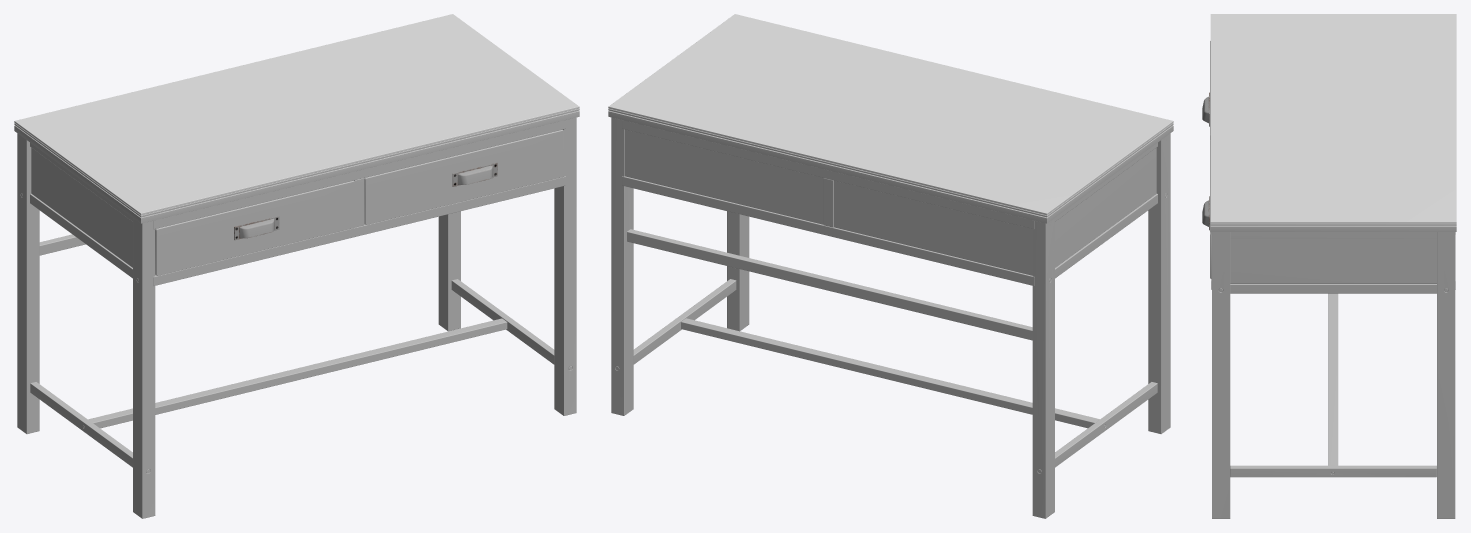
Rendered from WoodWorkingDesk 1.fbx.
3 views of the same model, side by side, from view 1: azimuth 30°, elevation 25°; view 2: azimuth 150°, elevation 25°; view 3: azimuth 270°, elevation 25° (orthographic). The views are drawn at different scales.
Parts seen in each view (by area): view 1: Desk_Baked, Glass_Baked, Handle_Baked; view 2: Desk_Baked, Glass_Baked; view 3: Glass_Baked, Desk_Baked, Handle_Baked.
Part boxes in pixels (x1,y1,x2,y2): Desk_Baked: [14, 108, 579, 518]; Glass_Baked: [14, 14, 579, 215]; Handle_Baked: [234, 163, 497, 240]; Desk_Baked: [608, 108, 1173, 518]; Glass_Baked: [608, 14, 1173, 215]; Glass_Baked: [1210, 14, 1456, 223]; Desk_Baked: [1210, 41, 1456, 518]; Handle_Baked: [1202, 92, 1209, 230].
Size of the model in its own units: 120 by 80.15 by 62.01.
